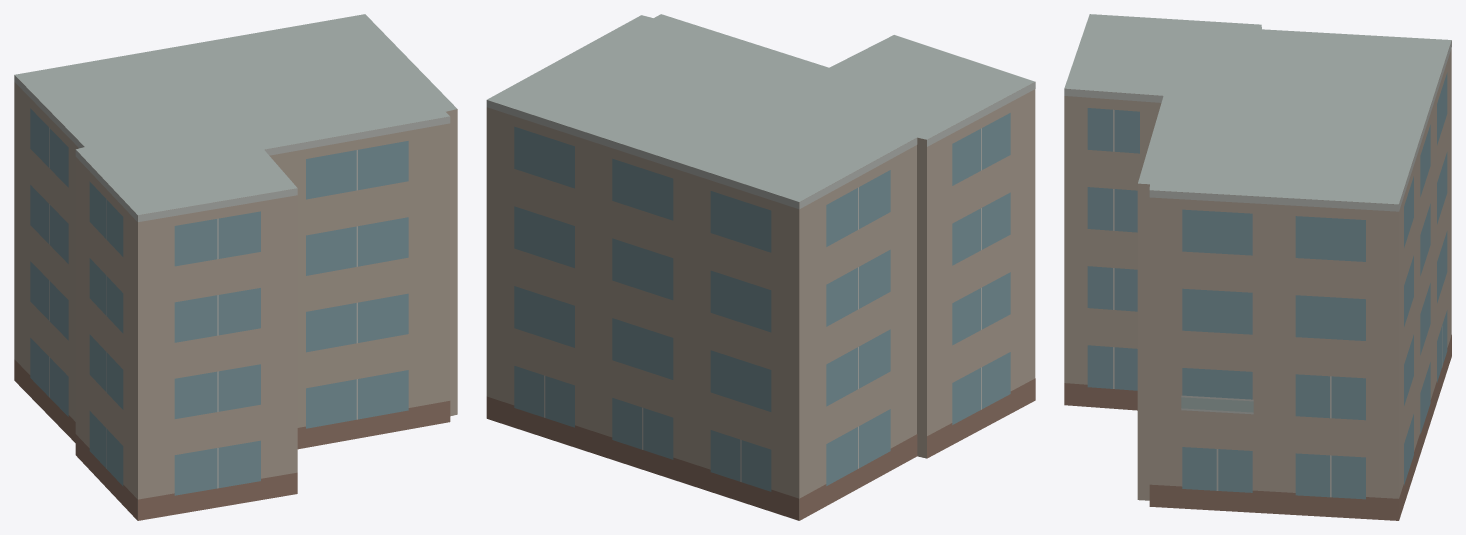
The model's file is survey-upis-32520043.glb.
3 views of the same model, side by side, from view 1: azimuth 30°, elevation 25°; view 2: azimuth 150°, elevation 25°; view 3: azimuth 270°, elevation 25° (orthographic). The views are drawn at different scales.
Visible parts, largest first — view 1: survey-upis-32520043.tmp; view 2: survey-upis-32520043.tmp; view 3: survey-upis-32520043.tmp.
Boxes of the visible parts, x1,y1,x2,y2 form: survey-upis-32520043.tmp: [14, 14, 457, 520]; survey-upis-32520043.tmp: [486, 14, 1035, 520]; survey-upis-32520043.tmp: [1064, 14, 1451, 520].
Bounding box in the file's own units: 13.75 × 10.65 × 11.83.
